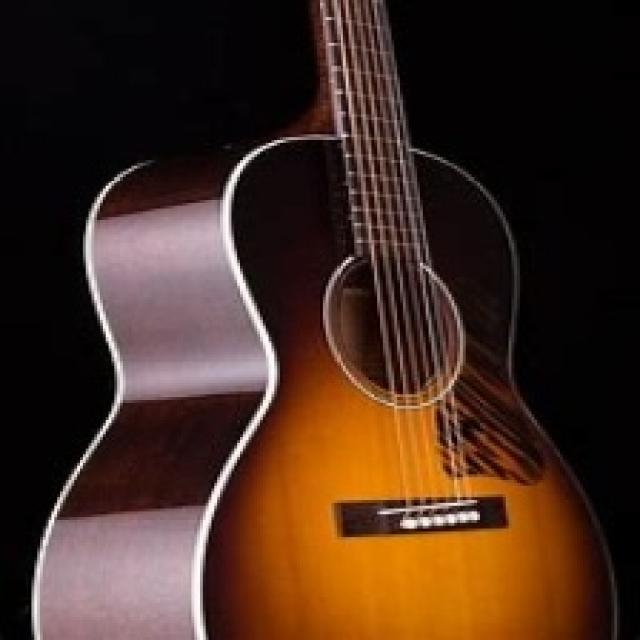guitar: (27, 0, 621, 637)
